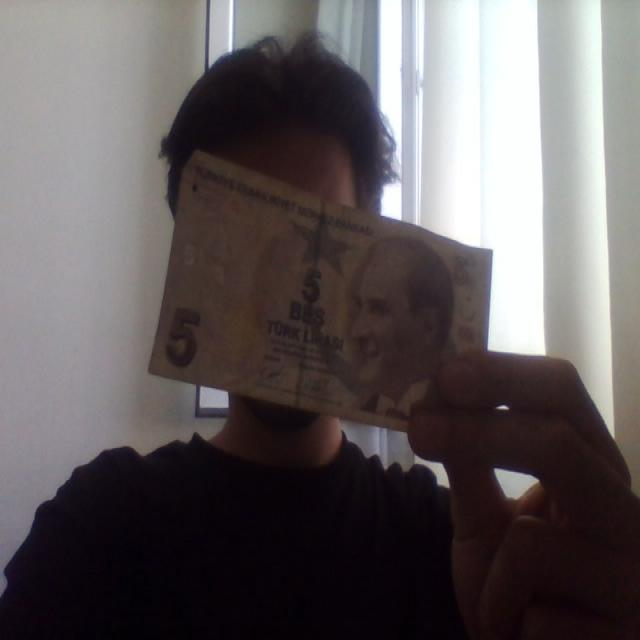5-TL: (148, 149, 494, 445)
